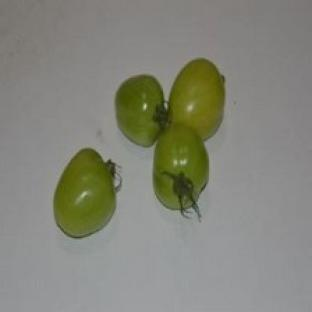Tomato: (53, 148, 115, 238), (154, 124, 208, 218), (169, 59, 225, 139), (115, 74, 164, 146)
